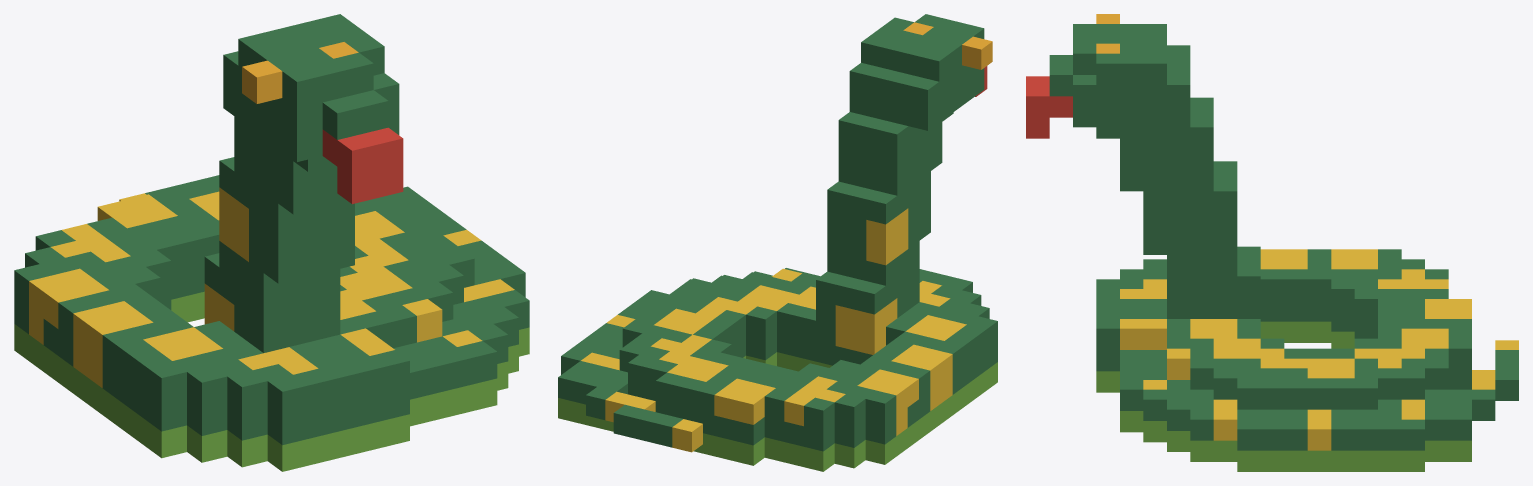
The model's file is snake.obj.
The picture shows the model from 3 angles, left to right: view 1: azimuth 30°, elevation 25°; view 2: azimuth 150°, elevation 25°; view 3: azimuth 270°, elevation 25°; orthographic projection. The views are drawn at different scales.
Visible parts, largest first — view 1: snake; view 2: snake; view 3: snake.
Part boxes in pixels (x1,y1,x2,y2): snake: (14, 14, 529, 471); snake: (558, 14, 997, 471); snake: (1026, 14, 1518, 471).
Bounding box in the file's own units: 1.6 × 1.5 × 2.1.
Materials: 1 (1 with a texture image).
